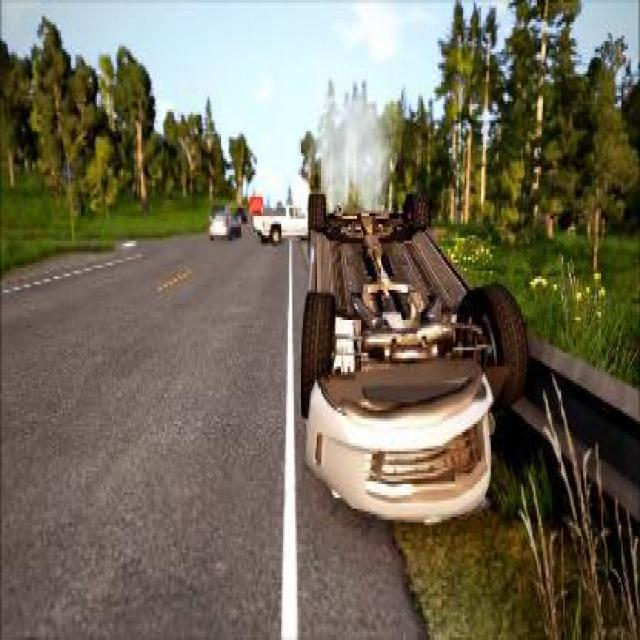accident: (298, 167, 531, 525)
